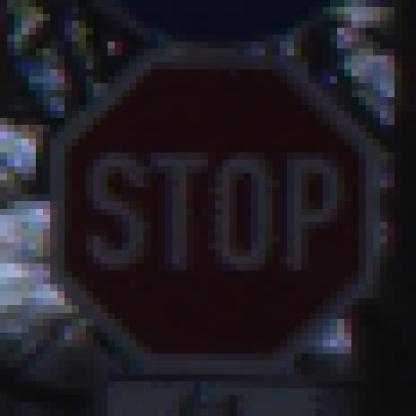stop: (52, 35, 380, 372)
